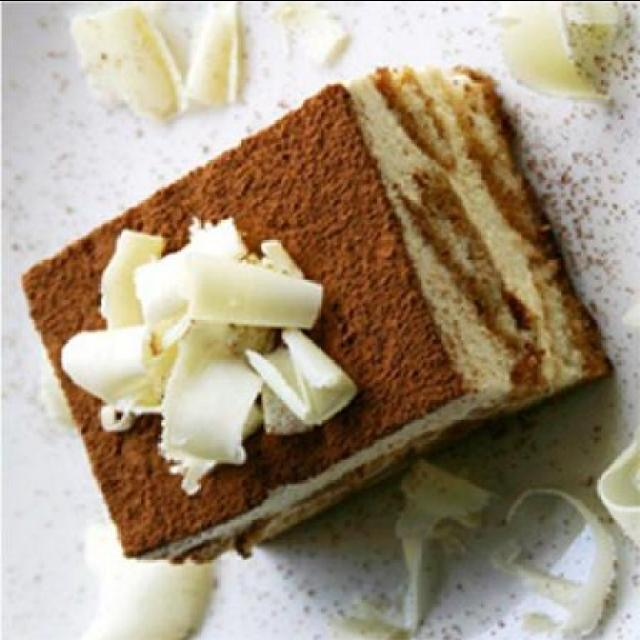Tiramisu: (22, 59, 576, 563)
